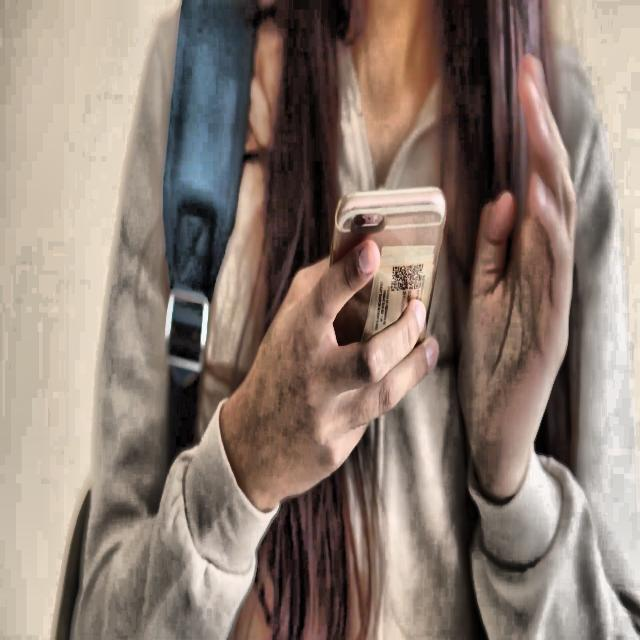Phone: (325, 184, 449, 354)
